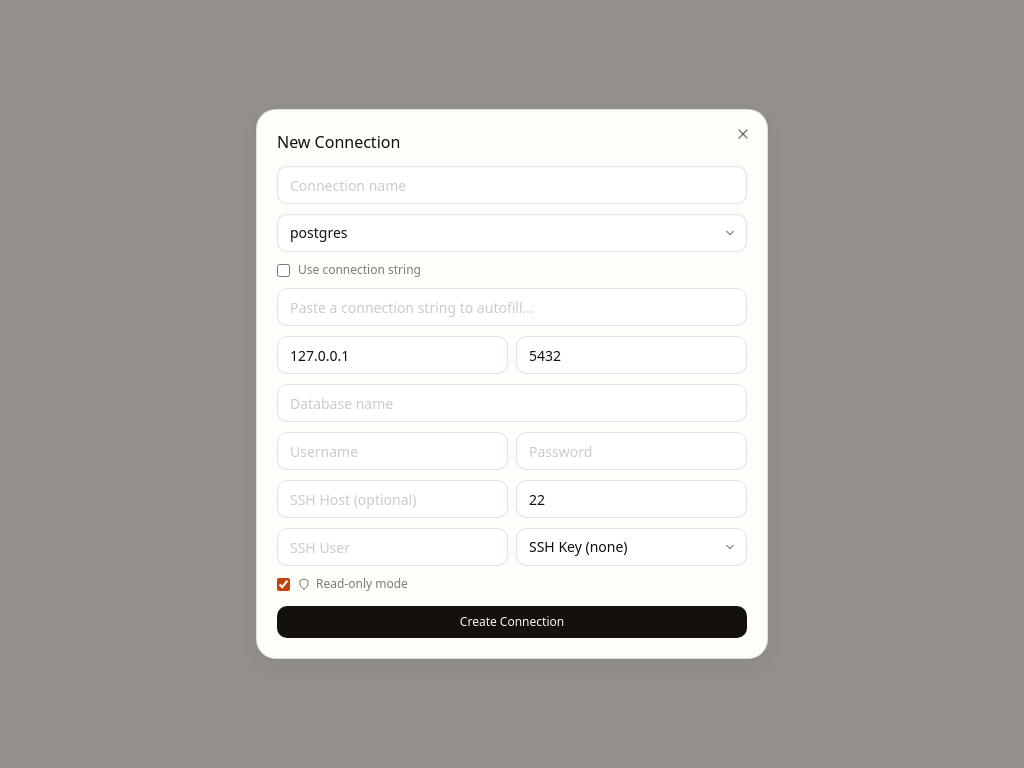
Test case: ConnectionSelector › switching DB type changes default port
expect the field named "Database port" holds "5432": met, box [516,336,747,374]
Select "mysql" in the dropdown named "Database type" at (512, 233), box [277,214,747,252]
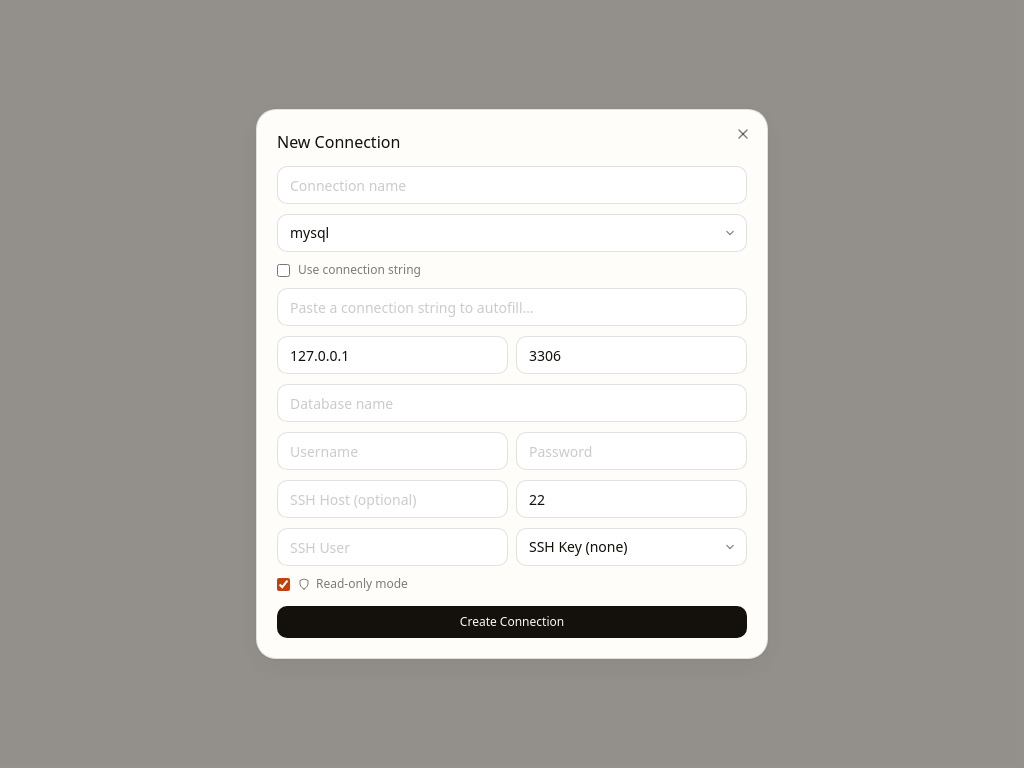
expect the field named "Database port" holds "3306": met, box [516,336,747,374]
